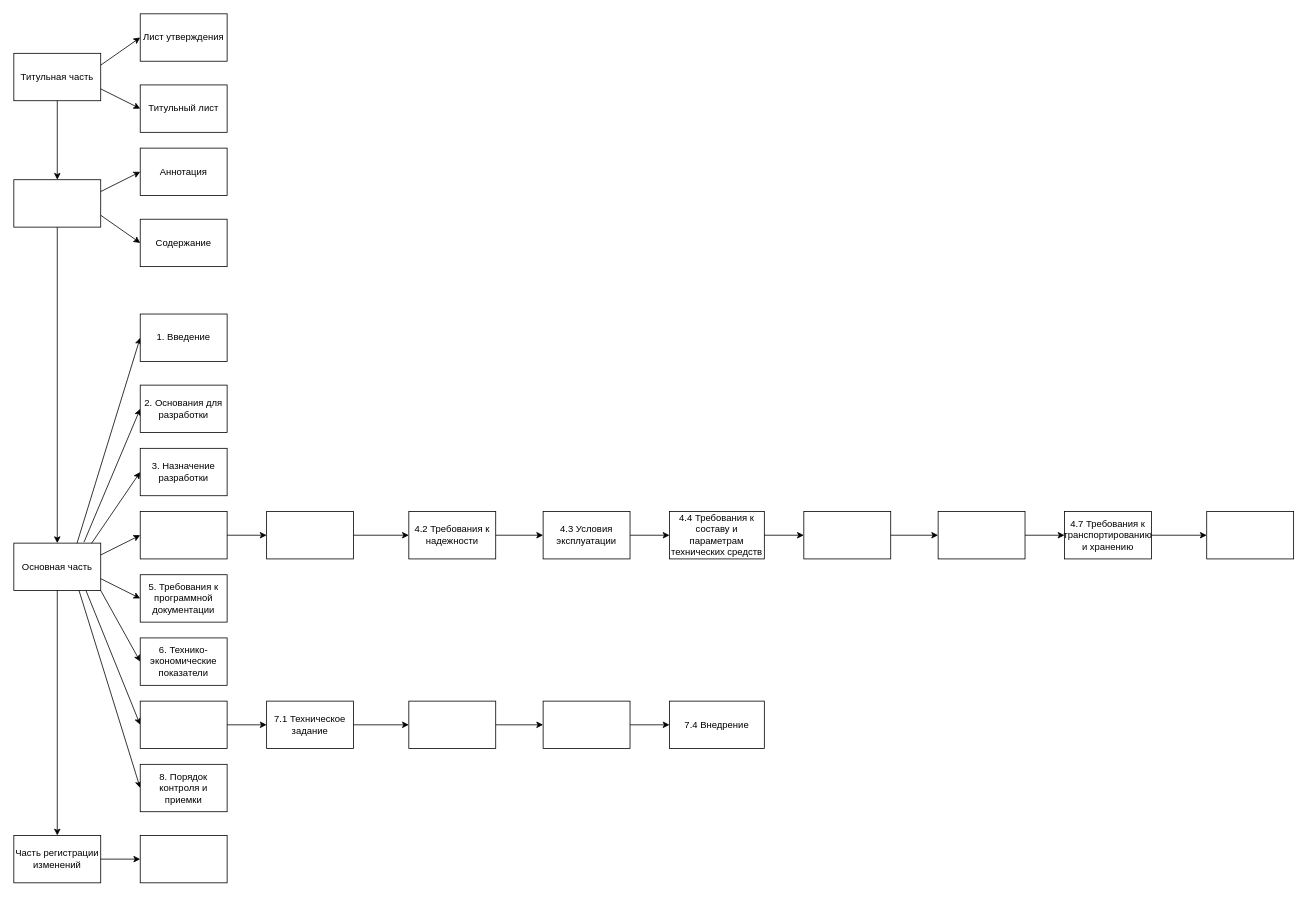
The diagram is 1307 pixels wide and 897 high, and some of its shapes have lost their labels. The centre of each missing label's shape, as x and y in pixels:
"4. Требования к программе" goes at point (183, 535).
"4.1 Требования к функциональным характеристикам" goes at point (310, 535).
"4.5 Требования к информационной и программной совместимости" goes at point (847, 535).
"4.6 Требования к маркироваке и упаковке" goes at point (981, 535).
"4.8 Специальные требования" goes at point (1250, 535).
"7. Стадии и этапы разработки" goes at point (183, 724).
"7.2 Технический проект" goes at point (452, 724).
"7.3 Рабочий проект" goes at point (586, 724).
"Информационная часть" goes at point (57, 203).
"Лист регистрации изменений" goes at point (183, 859).
